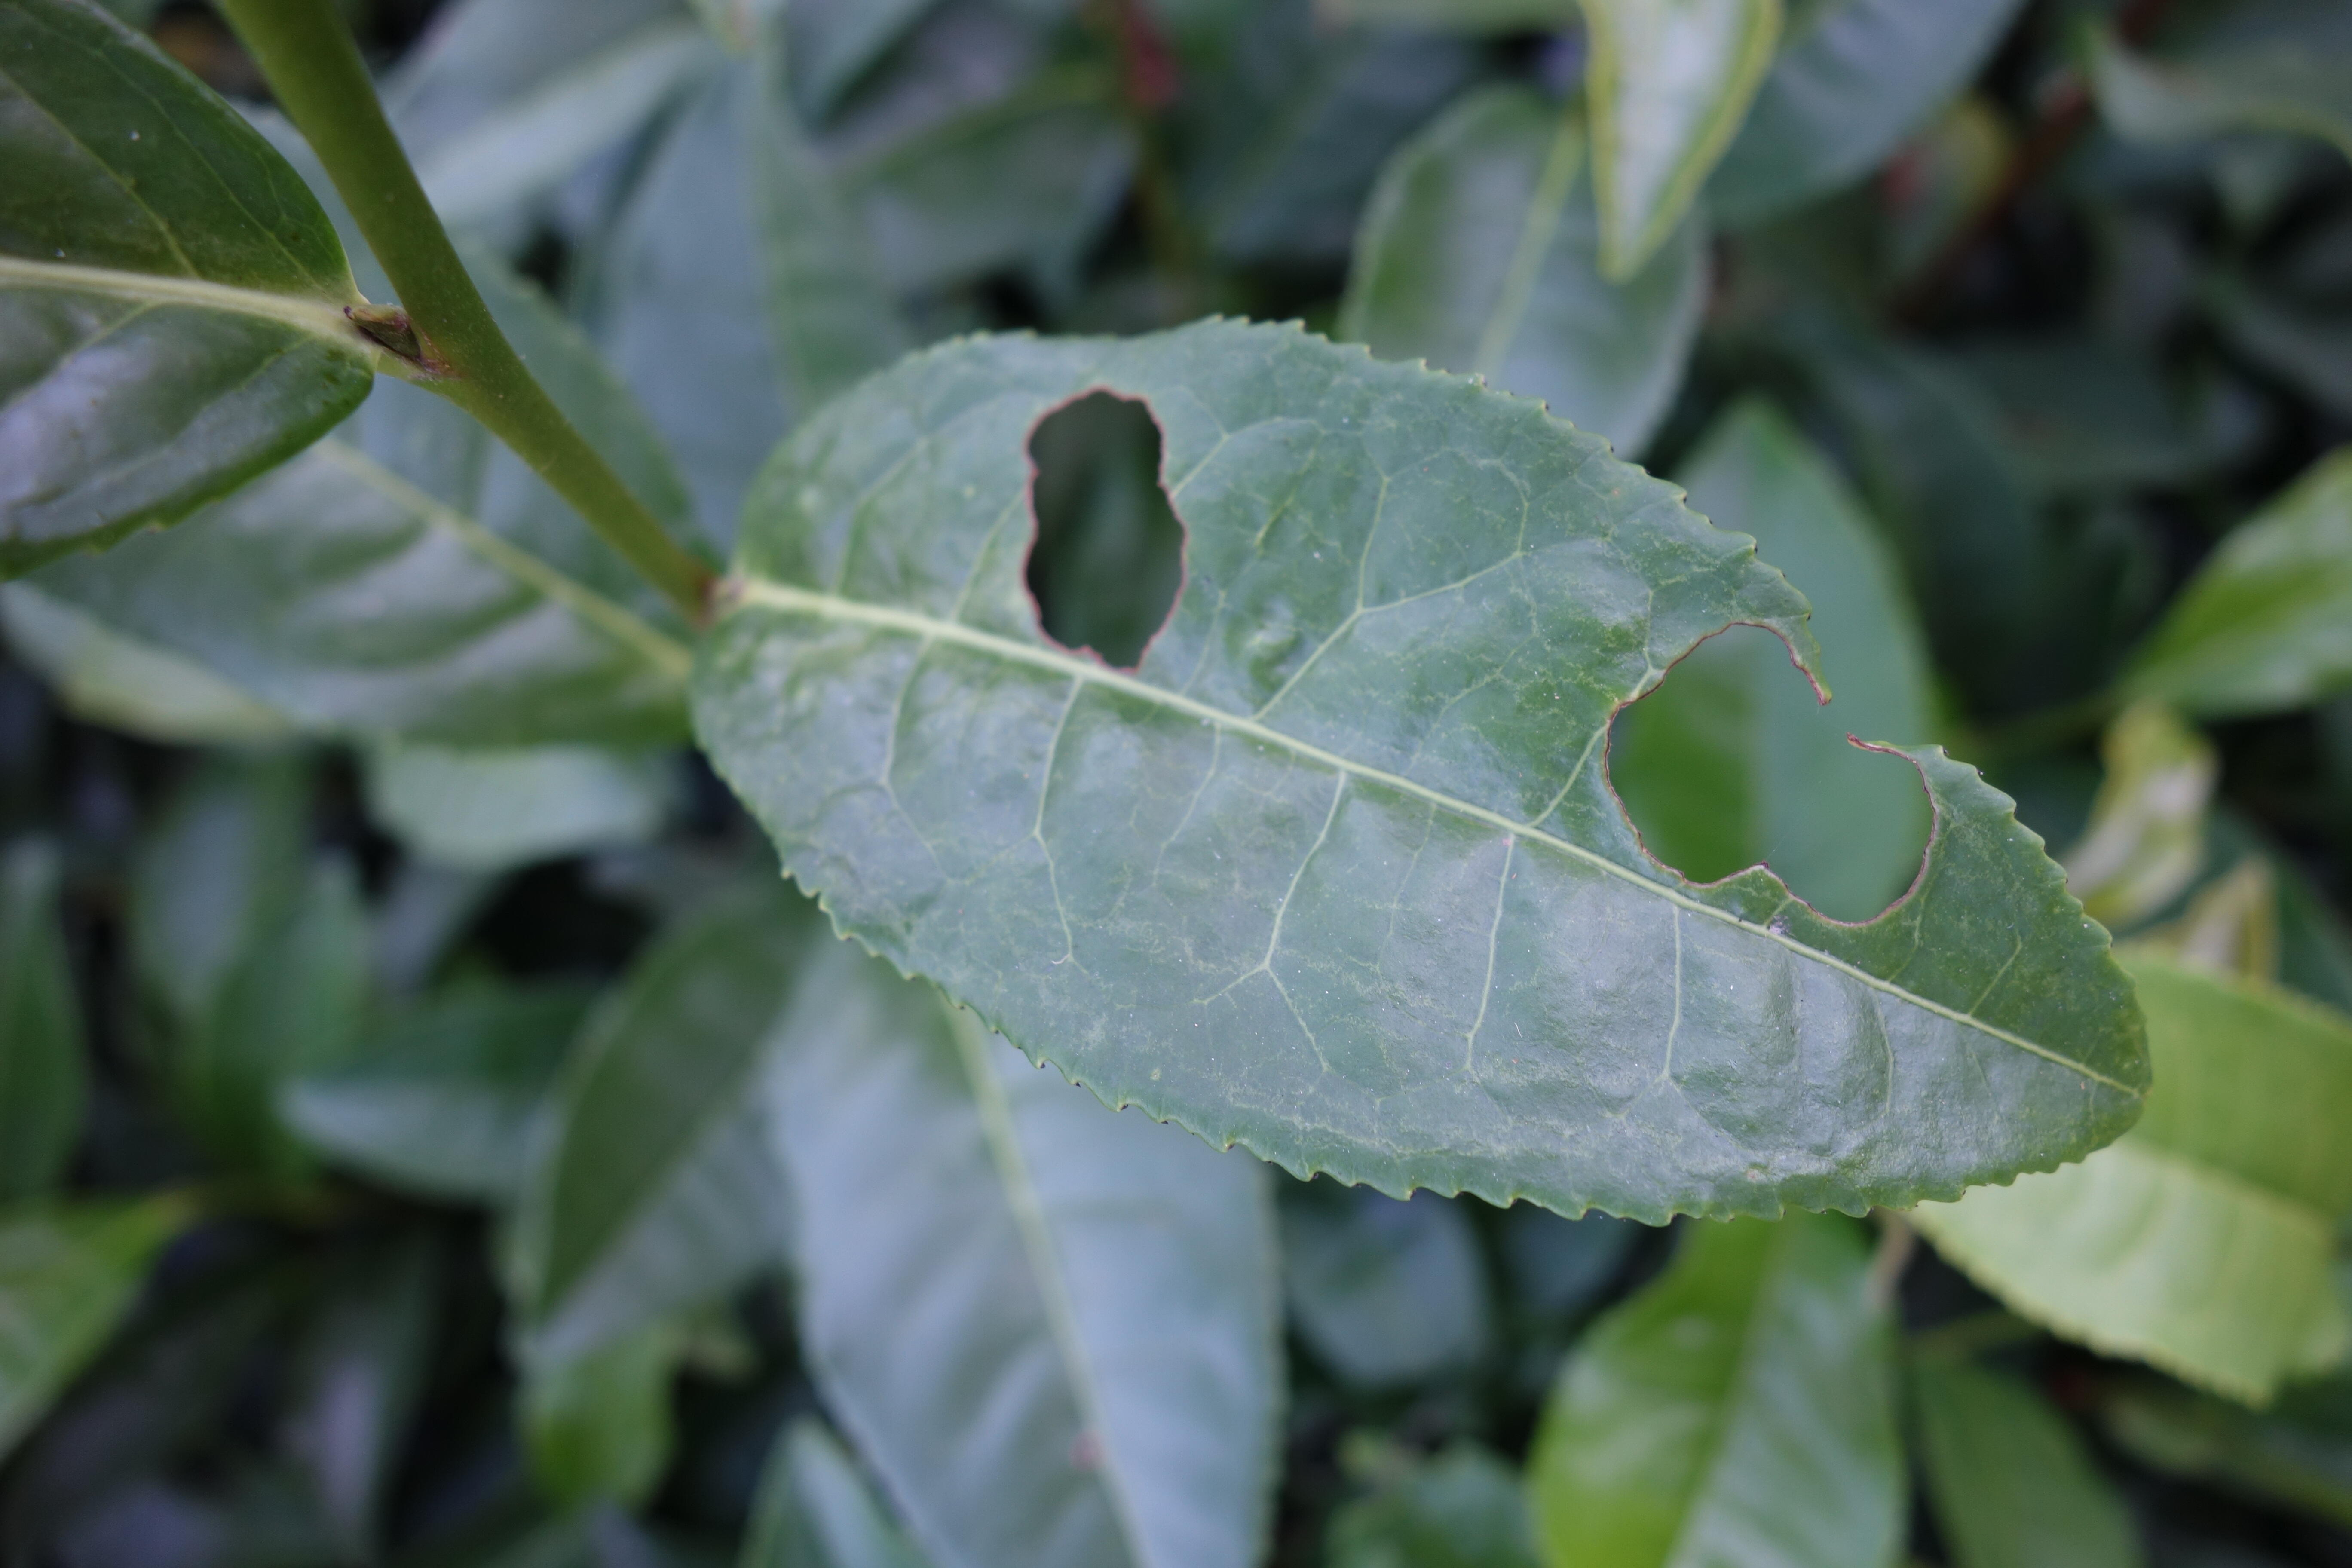chihuo_high: (686, 310, 2158, 1230)
